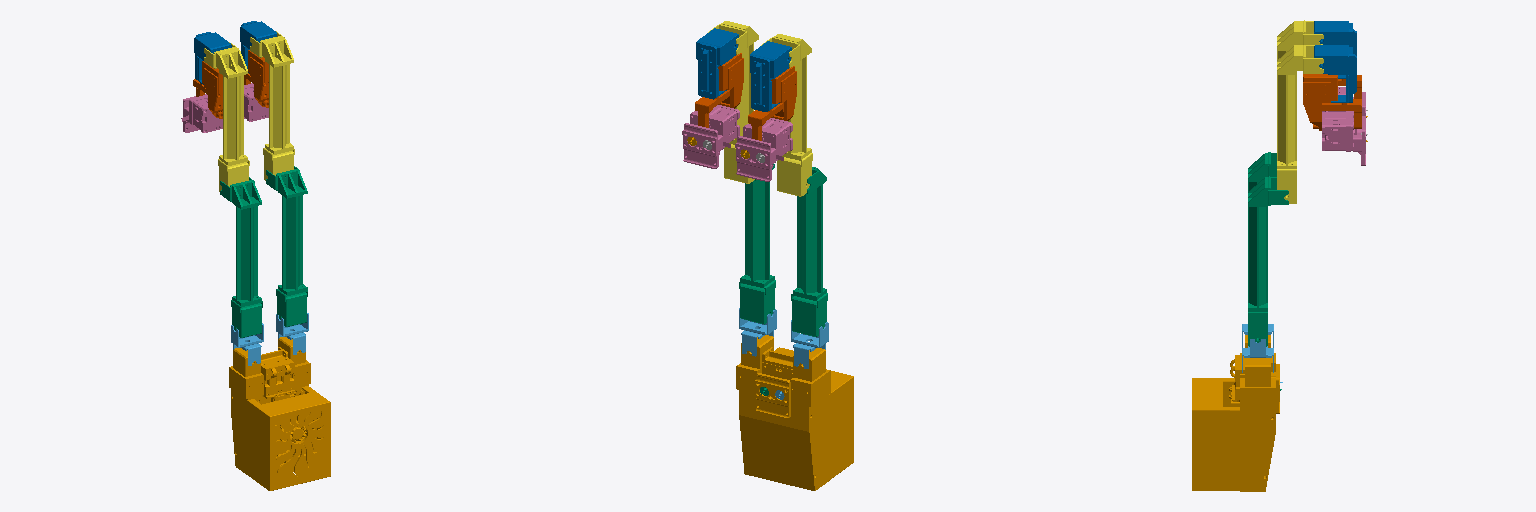
robot.urdf — urdf_assembly_v3_renamed:
<?xml version="1.0" encoding="utf-8"?>
<!-- This URDF was automatically created by SolidWorks to URDF Exporter! Originally created by Stephen Brawner (brawner@gmail.com) 
     Commit Version: 1.6.0-4-g7f85cfe  Build Version: 1.6.7995.38578
     For more information, please see http://wiki.ros.org/sw_urdf_exporter -->
<robot
  name="urdf_assembly_v3_renamed">
  <link
    name="base_link">
    <inertial>
      <origin
        xyz="-0.000115105468585938 -0.0365 0.0238504113913967"
        rpy="0 0 0" />
      <mass
        value="0.289236388645379" />
      <inertia
        ixx="0.000132761551873961"
        ixy="2.27069878380475E-19"
        ixz="2.81638454962055E-20"
        iyy="9.22208850458632E-05"
        iyz="4.59240074083166E-21"
        izz="0.000102457028660538" />
    </inertial>
    <visual>
      <origin
        xyz="0 0 0"
        rpy="0 0 0" />
      <geometry>
        <mesh
          filename="package://urdf_assembly_v3/meshes/base_link.STL" />
      </geometry>
      <material
        name="">
      </material>
    </visual>
    <collision>
      <origin
        xyz="0 0 0"
        rpy="0 0 0" />
      <geometry>
        <mesh
          filename="package://urdf_assembly_v3/meshes/base_link.STL" />
      </geometry>
    </collision>
  </link>
  <link
    name="left_link1">
    <inertial>
      <origin
        xyz="1.46409666895719E-06 0.0265 0.032"
        rpy="0 0 0" />
      <mass
        value="0.0139855333805099" />
      <inertia
        ixx="4.9526137894646E-06"
        ixy="5.28057620746869E-14"
        ixz="1.83384879073634E-10"
        iyy="4.95261378946461E-06"
        iyz="1.83384879073847E-10"
        izz="7.14531123081449E-06" />
    </inertial>
    <visual>
      <origin
        xyz="0 0.0265 0"
        rpy="0 0 0" />
      <geometry>
        <mesh
          filename="package://urdf_assembly_v3/meshes/link1left.STL" />
      </geometry>
      <material
        name="">
      </material>
    </visual>
    <collision>
      <origin
        xyz="0 0.0265 0"
        rpy="0 0 0" />
      <geometry>
        <mesh
          filename="package://urdf_assembly_v3/meshes/link1left.STL" />
      </geometry>
    </collision>
  </link>
  <joint
    name="left_joint1"
    type="revolute">
    <origin
      xyz="-0.046865 -0.0365 0.053544"
      rpy="0 0 0" />
    <parent
      link="base_link" />
    <child
      link="left_link1" />
    <axis
      xyz="0 1 0" />
    <limit
      lower="-3.1415926535"
      upper="3.1415926535"
      effort="0"
      velocity="0" />
  </joint>
  <link
    name="left_link2">
    <inertial>
      <origin
        xyz="-0.000305825393312725 0.000966359648445103 0.106341172825761"
        rpy="0 0 0" />
      <mass
        value="0.229782243260054" />
      <inertia
        ixx="0.000614342121605754"
        ixy="-8.32549664095527E-14"
        ixz="-2.64032348605302E-14"
        iyy="0.000627742240982459"
        iyz="-8.6273676028392E-06"
        izz="4.62566638656366E-05" />
    </inertial>
    <visual>
      <origin
        xyz="0 0 0"
        rpy="0 0 0" />
      <geometry>
        <mesh
          filename="package://urdf_assembly_v3/meshes/link2left.STL" />
      </geometry>
      <material
        name="">
      </material>
    </visual>
    <collision>
      <origin
        xyz="0 0 0"
        rpy="0 0 0" />
      <geometry>
        <mesh
          filename="package://urdf_assembly_v3/meshes/link2left.STL" />
      </geometry>
    </collision>
  </link>
  <joint
    name="left_joint2"
    type="revolute">
    <origin
      xyz="0 0 0.064"
      rpy="0 0 0" />
    <parent
      link="left_link1" />
    <child
      link="left_link2" />
    <axis
      xyz="1 0 0" />
    <limit
      lower="-3.1415926535"
      upper="3.1415926535"
      effort="0"
      velocity="0" />
  </joint>
  <link
    name="left_link3">
    <inertial>
      <origin
        xyz="-0.000805715648479727 0.00234675284407727 0.104610252962578"
        rpy="0 0 0" />
      <mass
        value="0.229652446836796" />
      <inertia
        ixx="0.000474381647933786"
        ixy="-8.32549774311269E-14"
        ixz="-2.64030323593543E-14"
        iyy="0.00048920460960121"
        iyz="-7.78396771784751E-06"
        izz="4.68650934509069E-05" />
    </inertial>
    <visual>
      <origin
        xyz="0 0 0"
        rpy="0 0 0" />
      <geometry>
        <mesh
          filename="package://urdf_assembly_v3/meshes/link3left.STL" />
      </geometry>
      <material
        name="">
      </material>
    </visual>
    <collision>
      <origin
        xyz="0 0 0"
        rpy="0 0 0" />
      <geometry>
        <mesh
          filename="package://urdf_assembly_v3/meshes/link3left.STL" />
      </geometry>
    </collision>
  </link>
  <joint
    name="left_joint3"
    type="revolute">
    <origin
      xyz="0 0.04825 0.26075"
      rpy="0 0 0" />
    <parent
      link="left_link2" />
    <child
      link="left_link3" />
    <axis
      xyz="1 0 0" />
    <limit
      lower="-3.1415926535"
      upper="3.1415926535"
      effort="0"
      velocity="0" />
  </joint>
  <link
    name="left_link4">
    <inertial>
      <origin
        xyz="-0.00100018017618002 0.0230612774818827 -0.00805586196059338"
        rpy="0 0 0" />
      <mass
        value="0.113780679571394" />
      <inertia
        ixx="4.87055369505725E-05"
        ixy="-1.83468134020384E-10"
        ixz="-2.64028829052873E-14"
        iyy="3.93388494809569E-05"
        iyz="1.96303429852286E-07"
        izz="4.11715067020158E-05" />
    </inertial>
    <visual>
      <origin
        xyz="0 0 0"
        rpy="0 0 0" />
      <geometry>
        <mesh
          filename="package://urdf_assembly_v3/meshes/link4left.STL" />
      </geometry>
      <material
        name="">
      </material>
    </visual>
    <collision>
      <origin
        xyz="0 0 0"
        rpy="0 0 0" />
      <geometry>
        <mesh
          filename="package://urdf_assembly_v3/meshes/link4left.STL" />
      </geometry>
    </collision>
  </link>
  <joint
    name="left_joint4"
    type="revolute">
    <origin
      xyz="0 0.05825 0.24075"
      rpy="0 0 0" />
    <parent
      link="left_link3" />
    <child
      link="left_link4" />
    <axis
      xyz="1 0 0" />
    <limit
      lower="-3.1415926535"
      upper="3.1415926535"
      effort="0"
      velocity="0" />
  </joint>
  <link
    name="left_link5">
    <inertial>
      <origin
        xyz="1.36536404404808E-09 -0.0114314067048532 0.0581132156435391"
        rpy="0 0 0" />
      <mass
        value="0.149495542286874" />
      <inertia
        ixx="8.6825708374237E-05"
        ixy="1.02697388078987E-12"
        ixz="2.72736879792928E-12"
        iyy="5.05987072260068E-05"
        iyz="2.34694232821625E-06"
        izz="6.90822321267579E-05" />
    </inertial>
    <visual>
      <origin
        xyz="0 0 0"
        rpy="0 0 0" />
      <geometry>
        <mesh
          filename="package://urdf_assembly_v3/meshes/link5left.STL" />
      </geometry>
      <material
        name="">
      </material>
    </visual>
    <collision>
      <origin
        xyz="0 0 0"
        rpy="0 0 0" />
      <geometry>
        <mesh
          filename="package://urdf_assembly_v3/meshes/link5left.STL" />
      </geometry>
    </collision>
  </link>
  <joint
    name="left_joint5"
    type="revolute">
    <origin
      xyz="-0.001 0.01275 -0.12095"
      rpy="0 0 0" />
    <parent
      link="left_link4" />
    <child
      link="left_link5" />
    <axis
      xyz="0 0 1" />
    <limit
      lower="-3.1415926535"
      upper="3.1415926535"
      effort="0"
      velocity="0" />
  </joint>
  <link
    name="left_end_effector">
    <inertial>
      <origin
        xyz="0.0588629378640857 -0.0687282009157469 -0.214351335153555"
        rpy="-0.00037097 0.038406 0" />
      <mass
        value="4.9205796441415" />
      <inertia
        ixx="0.350442260579357"
        ixy="0.00225664600108457"
        ixz="0.0112700614970931"
        iyy="0.33666561882012"
        iyz="-0.0763319908864143"
        izz="0.0360562021300994" />
    </inertial>
    <visual>
      <origin
        xyz="0 0 0"
        rpy="-0.00037097 0.038406 0" />
      <geometry>
        <mesh
          filename="package://urdf_assembly_v3/meshes/link6left.STL" />
      </geometry>
      <material
        name="">
      </material>
    </visual>
    <collision>
      <origin
        xyz="0 0 0"
        rpy="-0.00037097 0.038406 0" />
      <geometry>
        <mesh
          filename="package://urdf_assembly_v3/meshes/link6left.STL" />
      </geometry>
    </collision>
  </link>
  <joint
    name="left_joint6"
    type="revolute">
    <origin
      xyz="0 0 -5.4381E-05"
      rpy="0 0 0" />
    <parent
      link="left_link5" />
    <child
      link="left_end_effector" />
    <axis
      xyz="0 1 0" />
    <limit
      lower="-3.1415926535"
      upper="3.1415926535"
      effort="0"
      velocity="0" />
  </joint>
  <link
    name="left_adhesion_link1">
    <inertial>
      <origin
        xyz="0.0646622423547682 -0.119478168375613 -0.194448281233078"
        rpy="0 -0.038035 -1.4117E-05" />
      <mass
        value="4.9205796441415" />
      <inertia
        ixx="0.350844174713616"
        ixy="-0.000647388211465503"
        ixz="-0.00070766016861792"
        iyy="0.336665641624265"
        iyz="-0.0763625240272531"
        izz="0.0356542651916951" />
    </inertial>
    <visual>
      <origin
        xyz="0 0 0"
        rpy="0 -0.038035 -1.4117E-05" />
      <geometry>
        <mesh
          filename="package://urdf_assembly_v3/meshes/screw_ll.STL" />
      </geometry>
      <material
        name="">
      </material>
    </visual>
    <collision>
      <origin
        xyz="0 0 0"
        rpy="0 -0.038035 -1.4117E-05" />
      <geometry>
        <mesh
          filename="package://urdf_assembly_v3/meshes/screw_ll.STL" />
      </geometry>
    </collision>
  </link>
  <joint
    name="left_adhesion1"
    type="continuous">
    <origin
      xyz="-0.013145 0.050751 -0.022503"
      rpy="0 0 0" />
    <parent
      link="left_end_effector" />
    <child
      link="left_adhesion_link1" />
    <axis
      xyz="0 1 0" />
  </joint>
  <link
    name="left_adhesion_link2">
    <inertial>
      <origin
        xyz="0.0366622442813934 -0.119478164064466 -0.194458668291756"
        rpy="0 -0.038035 -1.4117E-05" />
      <mass
        value="4.9205796441415" />
      <inertia
        ixx="0.350844174713616"
        ixy="-0.000647388211465503"
        ixz="-0.000707660168617921"
        iyy="0.336665641624265"
        iyz="-0.0763625240272531"
        izz="0.0356542651916951" />
    </inertial>
    <visual>
      <origin
        xyz="0 0 0"
        rpy="0 -0.038035 -1.4117E-05" />
      <geometry>
        <mesh
          filename="package://urdf_assembly_v3/meshes/screw_lr.STL" />
      </geometry>
      <material
        name="">
      </material>
    </visual>
    <collision>
      <origin
        xyz="0 0 0"
        rpy="0 -0.038035 -1.4117E-05" />
      <geometry>
        <mesh
          filename="package://urdf_assembly_v3/meshes/screw_lr.STL" />
      </geometry>
    </collision>
  </link>
  <joint
    name="left_adhesion2"
    type="continuous">
    <origin
      xyz="0.014834 0.050751 -0.021427"
      rpy="0 0 0" />
    <parent
      link="left_end_effector" />
    <child
      link="left_adhesion_link2" />
    <axis
      xyz="0 1 0" />
  </joint>
  <link
    name="right_link1">
    <inertial>
      <origin
        xyz="1.4640966688878E-06 0.0265 0.0320000000000001"
        rpy="0 0 0" />
      <mass
        value="0.0139855333805099" />
      <inertia
        ixx="4.95261378946459E-06"
        ixy="5.28057643033231E-14"
        ixz="1.83384879072351E-10"
        iyy="4.9526137894646E-06"
        iyz="1.83384879073712E-10"
        izz="7.14531123081448E-06" />
    </inertial>
    <visual>
      <origin
        xyz="0 0.0265 0"
        rpy="0 0 0" />
      <geometry>
        <mesh
          filename="package://urdf_assembly_v3/meshes/link1right.STL" />
      </geometry>
      <material
        name="">
      </material>
    </visual>
    <collision>
      <origin
        xyz="0 0.0265 0"
        rpy="0 0 0" />
      <geometry>
        <mesh
          filename="package://urdf_assembly_v3/meshes/link1right.STL" />
      </geometry>
    </collision>
  </link>
  <joint
    name="right_joint1"
    type="revolute">
    <origin
      xyz="0.046635 -0.0365 0.053544"
      rpy="0 0 0" />
    <parent
      link="base_link" />
    <child
      link="right_link1" />
    <axis
      xyz="0 1 0" />
    <limit
      lower="-3.1415926535"
      upper="3.1415926535"
      effort="0"
      velocity="0" />
  </joint>
  <link
    name="right_link2">
    <inertial>
      <origin
        xyz="0.000305825180978162 0.000966359648445096 0.106341172825761"
        rpy="0 0 0" />
      <mass
        value="0.229782243260054" />
      <inertia
        ixx="0.000614342121605753"
        ixy="-8.32549743423753E-14"
        ixz="-2.64026839891863E-14"
        iyy="0.000627742240982458"
        iyz="-8.62736760283919E-06"
        izz="4.62566638656364E-05" />
    </inertial>
    <visual>
      <origin
        xyz="0 0 0"
        rpy="0 0 0" />
      <geometry>
        <mesh
          filename="package://urdf_assembly_v3/meshes/link2right.STL" />
      </geometry>
      <material
        name="">
      </material>
    </visual>
    <collision>
      <origin
        xyz="0 0 0"
        rpy="0 0 0" />
      <geometry>
        <mesh
          filename="package://urdf_assembly_v3/meshes/link2right.STL" />
      </geometry>
    </collision>
  </link>
  <joint
    name="right_joint2"
    type="revolute">
    <origin
      xyz="0 0 0.064"
      rpy="0 0 0" />
    <parent
      link="right_link1" />
    <child
      link="right_link2" />
    <axis
      xyz="1 0 0" />
    <limit
      lower="-3.1415926535"
      upper="3.1415926535"
      effort="0"
      velocity="0" />
  </joint>
  <link
    name="right_link3">
    <inertial>
      <origin
        xyz="0.000805715436024616 0.00234675284407723 0.104610252962577"
        rpy="0 0 0" />
      <mass
        value="0.229652446836796" />
      <inertia
        ixx="0.000474381647933787"
        ixy="-8.3254953856137E-14"
        ixz="-2.64024993243238E-14"
        iyy="0.000489204609601211"
        iyz="-7.78396771784749E-06"
        izz="4.68650934509069E-05" />
    </inertial>
    <visual>
      <origin
        xyz="0 0 0"
        rpy="0 0 0" />
      <geometry>
        <mesh
          filename="package://urdf_assembly_v3/meshes/link3right.STL" />
      </geometry>
      <material
        name="">
      </material>
    </visual>
    <collision>
      <origin
        xyz="0 0 0"
        rpy="0 0 0" />
      <geometry>
        <mesh
          filename="package://urdf_assembly_v3/meshes/link3right.STL" />
      </geometry>
    </collision>
  </link>
  <joint
    name="right_joint3"
    type="revolute">
    <origin
      xyz="0 0.04825 0.26075"
      rpy="0 0 0" />
    <parent
      link="right_link2" />
    <child
      link="right_link3" />
    <axis
      xyz="1 0 0" />
    <limit
      lower="-3.1415926535"
      upper="3.1415926535"
      effort="0"
      velocity="0" />
  </joint>
  <link
    name="right_link4">
    <inertial>
      <origin
        xyz="0.0010001539942989 0.0230612774818827 -0.00805586196059349"
        rpy="0 0 0" />
      <mass
        value="0.113780679571395" />
      <inertia
        ixx="4.87055369505725E-05"
        ixy="-1.83468134031442E-10"
        ixz="-2.64028769046393E-14"
        iyy="3.93388494809569E-05"
        iyz="1.96303429852292E-07"
        izz="4.11715067020158E-05" />
    </inertial>
    <visual>
      <origin
        xyz="0 0 0"
        rpy="0 0 0" />
      <geometry>
        <mesh
          filename="package://urdf_assembly_v3/meshes/link4right.STL" />
      </geometry>
      <material
        name="">
      </material>
    </visual>
    <collision>
      <origin
        xyz="0 0 0"
        rpy="0 0 0" />
      <geometry>
        <mesh
          filename="package://urdf_assembly_v3/meshes/link4right.STL" />
      </geometry>
    </collision>
  </link>
  <joint
    name="right_joint4"
    type="revolute">
    <origin
      xyz="0 0.05825 0.24075"
      rpy="0 0 0" />
    <parent
      link="right_link3" />
    <child
      link="right_link4" />
    <axis
      xyz="1 0 0" />
    <limit
      lower="-3.1415926535"
      upper="3.1415926535"
      effort="0"
      velocity="0" />
  </joint>
  <link
    name="right_link5">
    <inertial>
      <origin
        xyz="1.44498700331563E-09 -0.0114314066129891 0.0581132157581361"
        rpy="0 0 0" />
      <mass
        value="0.149495541515728" />
      <inertia
        ixx="8.6825708279059E-05"
        ixy="1.09628850450576E-12"
        ixz="2.79001028746539E-12"
        iyy="5.05987069687916E-05"
        iyz="2.34694234823125E-06"
        izz="6.90822319173622E-05" />
    </inertial>
    <visual>
      <origin
        xyz="0 0 0"
        rpy="0 0 0" />
      <geometry>
        <mesh
          filename="package://urdf_assembly_v3/meshes/link5right.STL" />
      </geometry>
      <material
        name="">
      </material>
    </visual>
    <collision>
      <origin
        xyz="0 0 0"
        rpy="0 0 0" />
      <geometry>
        <mesh
          filename="package://urdf_assembly_v3/meshes/link5right.STL" />
      </geometry>
    </collision>
  </link>
  <joint
    name="right_joint5"
    type="revolute">
    <origin
      xyz="0.0010054 0.01275 -0.12095"
      rpy="0 0 0" />
    <parent
      link="right_link4" />
    <child
      link="right_link5" />
    <axis
      xyz="0 0 1" />
    <limit
      lower="-3.1415926535"
      upper="3.1415926535"
      effort="0"
      velocity="0" />
  </joint>
  <link
    name="right_end_effector">
    <inertial>
      <origin
        xyz="-0.0365720709703868 -0.0687268389754472 -0.218018431109013"
        rpy="-0.00037097 0.038406 0" /> 
      <mass
        value="4.9205796441415" />
      <inertia
        ixx="0.350442260579357"
        ixy="0.00225664600108469"
        ixz="0.011270061497093"
        iyy="0.336665618820118"
        iyz="-0.0763319908864177"
        izz="0.0360562021301011" />
    </inertial>
    <visual>
      <origin
        xyz="0 0 0"
        rpy="-0.00037097 0.038406 0" />
      <geometry>
        <mesh
          filename="package://urdf_assembly_v3/meshes/link6right.STL" />
      </geometry>
      <material
        name="">
      </material>
    </visual>
    <collision>
      <origin
        xyz="0 0 0"
        rpy="-0.00037097 0.038406 0" />
      <geometry>
        <mesh
          filename="package://urdf_assembly_v3/meshes/link6right.STL" />
      </geometry>
    </collision>
  </link>
  <joint
    name="right_joint6"
    type="revolute">
    <origin
      xyz="0 0 -5.4381E-05"
      rpy="0 0 0" />
    <parent
      link="right_link5" />
    <child
      link="right_end_effector" />
    <axis
      xyz="0 1 0" />
    <limit
      lower="-3.1415926535"
      upper="3.1415926535"
      effort="0"
      velocity="0" />
  </joint>
  <link
    name="right_adhesion_link1">
    <inertial>
      <origin
        xyz="-0.0308431881221557 -0.119478153670588 -0.194483710804656"
        rpy="0 -0.038035 -1.4117E-05" />
      <mass
        value="4.9205796441415" />
      <inertia
        ixx="0.350844174713616"
        ixy="-0.000647388211465514"
        ixz="-0.00070766016861799"
        iyy="0.336665641624265"
        iyz="-0.0763625240272531"
        izz="0.0356542651916951" />
    </inertial>
    <visual>
      <origin
        xyz="0 0 0"
        rpy="0 -0.038035 -1.4117E-05" />
      <geometry>
        <mesh
          filename="package://urdf_assembly_v3/meshes/screw_rl.STL" />
      </geometry>
      <material
        name="">
      </material>
    </visual>
    <collision>
      <origin
        xyz="0 0 0"
        rpy="0 -0.038035 -1.4117E-05" />
      <geometry>
        <mesh
          filename="package://urdf_assembly_v3/meshes/screw_rl.STL" />
      </geometry>
    </collision>
  </link>
  <joint
    name="right_adhesion1"
    type="continuous">
    <origin
      xyz="-0.013145 0.050751 -0.022503"
      rpy="0 0 0" />
    <parent
      link="right_end_effector" />
    <child
      link="right_adhesion_link1" />
    <axis
      xyz="0 1 0" />
  </joint>
  <link
    name="right_adhesion_link2">
    <inertial>
      <origin
        xyz="-0.0588431861955305 -0.119478149359441 -0.194494097863333"
        rpy="0 -0.038035 -1.4117E-05" />
      <mass
        value="4.9205796441415" />
      <inertia
        ixx="0.350844174713616"
        ixy="-0.000647388211465513"
        ixz="-0.000707660168617985"
        iyy="0.336665641624265"
        iyz="-0.0763625240272531"
        izz="0.0356542651916951" />
    </inertial>
    <visual>
      <origin
        xyz="0 0 0"
        rpy="0 -0.038035 -1.4117E-05" />
      <geometry>
        <mesh
          filename="package://urdf_assembly_v3/meshes/screw_rr.STL" />
      </geometry>
      <material
        name="">
      </material>
    </visual>
    <collision>
      <origin
        xyz="0 0 0"
        rpy="0 -0.038035 -1.4117E-05" />
      <geometry>
        <mesh
          filename="package://urdf_assembly_v3/meshes/screw_rr.STL" />
      </geometry>
    </collision>
  </link>
  <joint
    name="right_adhesion2"
    type="continuous">
    <origin
      xyz="0.014834 0.050751 -0.021427"
      rpy="0 0 0" />
    <parent
      link="right_end_effector" />
    <child
      link="right_adhesion_link2" />
    <axis
      xyz="0 1 0" />
  </joint>
  <link
    name="body_adhesion1">
    <inertial>
      <origin
        xyz="0.0168606641443995 0.0138378289055244 0.281583507862372"
        rpy="0 0 0" />
      <mass
        value="4.9205796441415" />
      <inertia
        ixx="0.350844174713616"
        ixy="-0.000647388211465296"
        ixz="-0.000707660168617058"
        iyy="0.336665641624265"
        iyz="-0.0763625240272548"
        izz="0.0356542651916959" />
    </inertial>
    <visual>
      <origin
        xyz="0 0 0"
        rpy="0 0 0" />
      <geometry>
        <mesh
          filename="package://urdf_assembly_v3/meshes/screw_bl.STL" />
      </geometry>
      <material
        name="">
      </material>
    </visual>
    <collision>
      <origin
        xyz="0 0 0"
        rpy="0 0 0" />
      <geometry>
        <mesh
          filename="package://urdf_assembly_v3/meshes/screw_bl.STL" />
      </geometry>
    </collision>
  </link>
  <joint
    name="body_adhesion1"
    type="continuous">
    <origin
      xyz="-0.01424 0 4.4418E-05"
      rpy="-0.00037097 0.00037097 0" />
    <parent
      link="base_link" />
    <child
      link="body_adhesion1" />
    <axis
      xyz="0 1 0" />
  </joint>
  <link
    name="body_adhesion2">
    <inertial>
      <origin
        xyz="-0.0111393339314293 0.0138378332142163 0.28157312742074"
        rpy="0 0 0" />
      <mass
        value="4.9205796441415" />
      <inertia
        ixx="0.350844174713616"
        ixy="-0.000647388211465305"
        ixz="-0.000707660168617095"
        iyy="0.336665641624265"
        iyz="-0.0763625240272548"
        izz="0.0356542651916959" />
    </inertial>
    <visual>
      <origin
        xyz="0 0 0"
        rpy="0 0 0" />
      <geometry>
        <mesh
          filename="package://urdf_assembly_v3/meshes/screw_br.STL" />
      </geometry>
      <material
        name="">
      </material>
    </visual>
    <collision>
      <origin
        xyz="0 0 0"
        rpy="0 0 0" />
      <geometry>
        <mesh
          filename="package://urdf_assembly_v3/meshes/screw_br.STL" />
      </geometry>
    </collision>
  </link>
  <joint
    name="body_adhesion2"
    type="continuous">
    <origin
      xyz="0.01376 0 4.4411E-05"
      rpy="-0.00037097 0.00037097 0" />
    <parent
      link="base_link" />
    <child
      link="body_adhesion2" />
    <axis
      xyz="0 1 0" />
  </joint>
</robot>

--- Facts derived from the render (not from the file) ---
Views: 3 orthographic renders of the robot side by side, from view 1: azimuth 30°, elevation 25°; view 2: azimuth 150°, elevation 25°; view 3: azimuth 270°, elevation 25°.
Model urdf_assembly_v3_renamed with 19 links and 18 joints (12 revolute, 6 continuous), rooted at base_link, posed all joints at 0.
Links seen in each view (by area): view 1: base_link, left_link2, right_link2, right_link3, left_link3, left_end_effector, left_link5, right_link5, left_link4, right_link4, left_link1, right_link1 (+1 smaller); view 2: base_link, left_link2, right_link2, left_link3, left_end_effector, right_end_effector, right_link4, left_link4, right_link3, right_link5, left_link5, right_link1 (+1 smaller); view 3: base_link, right_link2, right_link3, right_link5, right_end_effector, right_link4, left_link3, left_link4, left_link2.
Link boxes in pixels (bbox=[...]): base_link: bbox=[229, 337, 330, 490]; left_link2: bbox=[220, 177, 262, 337]; right_link2: bbox=[266, 166, 307, 326]; right_link3: bbox=[250, 31, 294, 180]; left_link3: bbox=[204, 42, 249, 191]; left_end_effector: bbox=[181, 94, 222, 132]; left_link5: bbox=[193, 61, 222, 118]; right_link5: bbox=[244, 50, 268, 107]; left_link4: bbox=[194, 32, 231, 84]; right_link4: bbox=[240, 21, 276, 73]; left_link1: bbox=[231, 323, 263, 365]; right_link1: bbox=[276, 313, 308, 354]; base_link: bbox=[736, 335, 853, 490]; left_link2: bbox=[791, 167, 827, 336]; right_link2: bbox=[739, 164, 775, 324]; left_link3: bbox=[761, 34, 812, 196]; left_end_effector: bbox=[735, 118, 792, 181]; right_end_effector: bbox=[682, 105, 739, 168]; right_link4: bbox=[696, 28, 738, 99]; left_link4: bbox=[750, 41, 791, 111]; right_link3: bbox=[708, 21, 758, 183]; right_link5: bbox=[695, 53, 743, 127]; left_link5: bbox=[748, 66, 796, 140]; right_link1: bbox=[739, 308, 776, 356]; base_link: bbox=[1192, 335, 1279, 491]; right_link2: bbox=[1248, 176, 1288, 346]; right_link3: bbox=[1277, 45, 1323, 203]; right_link5: bbox=[1303, 74, 1361, 130]; right_end_effector: bbox=[1322, 111, 1365, 165]; right_link4: bbox=[1314, 45, 1356, 102]; left_link3: bbox=[1277, 20, 1323, 59]; left_link4: bbox=[1314, 21, 1356, 78]; left_link2: bbox=[1248, 152, 1276, 191].
Size in the robot's own frame: 0.1842 by 0.293 by 0.7992 metres.
19 mesh visuals loaded from 19 distinct referenced files (19 binary STL).
